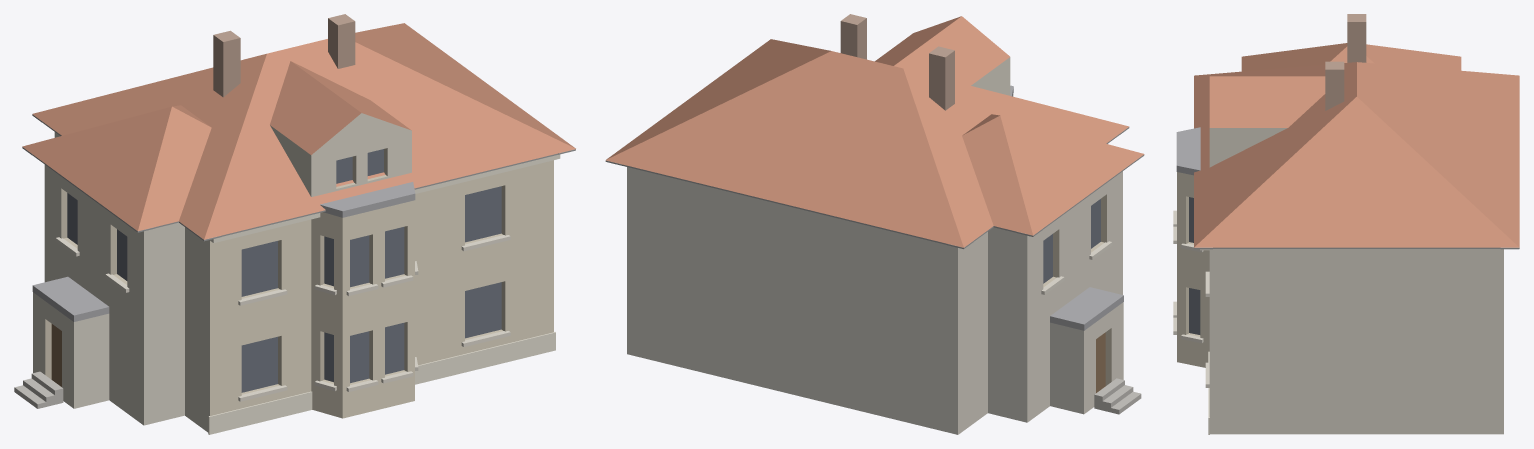
3 renders of one model, left to right at view 1: azimuth 30°, elevation 25°; view 2: azimuth 150°, elevation 25°; view 3: azimuth 270°, elevation 25°, orthographic. The views are drawn at different scales.
Visible parts, largest first — view 1: CP_1872_Masonry, CP_1872_Roof, CP_1872_Vol_left_wing_Masonry, CP_1872_Vol_bay_Masonry, CP_1872_WingRoof_vol_left_wing, CP_1872_Dormer_g1, CP_1872_Vol_porch_Masonry, CP_1872_Cornice_main_plinth_0, CP_1872_WingRoof_vol_porch, CP_1872_WingRoof_vol_bay, CP_1872_Chimney_0, CP_1872_Chimney_1 (+1 smaller); view 2: CP_1872_Masonry, CP_1872_Roof, CP_1872_Vol_left_wing_Masonry, CP_1872_WingRoof_vol_left_wing, CP_1872_Vol_porch_Masonry, CP_1872_Dormer_g1, CP_1872_WingRoof_vol_porch, CP_1872_Chimney_0, CP_1872_Chimney_1, CP_1872_Roof_EaveClosure_2; view 3: CP_1872_Masonry, CP_1872_Roof, CP_1872_Dormer_g1, CP_1872_Vol_bay_Masonry, CP_1872_WingRoof_vol_left_wing, CP_1872_WingRoof_vol_bay, CP_1872_Chimney_0, CP_1872_Chimney_1, CP_1872_Roof_EaveClosure_1.
Boxes of the visible parts, <box> form: CP_1872_Masonry: <box>54,132,553,432</box>; CP_1872_Roof: <box>32,23,575,239</box>; CP_1872_Vol_left_wing_Masonry: <box>44,165,184,425</box>; CP_1872_Vol_bay_Masonry: <box>311,200,414,418</box>; CP_1872_WingRoof_vol_left_wing: <box>22,105,211,230</box>; CP_1872_Dormer_g1: <box>270,61,411,196</box>; CP_1872_Vol_porch_Masonry: <box>33,292,109,408</box>; CP_1872_Cornice_main_plinth_0: <box>208,332,555,434</box>; CP_1872_WingRoof_vol_porch: <box>32,276,109,321</box>; CP_1872_WingRoof_vol_bay: <box>320,182,415,217</box>; CP_1872_Chimney_0: <box>213,30,240,97</box>; CP_1872_Chimney_1: <box>328,14,355,68</box>; CP_1872_Masonry: <box>627,167,987,434</box>; CP_1872_Roof: <box>606,39,1129,247</box>; CP_1872_Vol_left_wing_Masonry: <box>988,171,1122,422</box>; CP_1872_WingRoof_vol_left_wing: <box>962,114,1144,235</box>; CP_1872_Vol_porch_Masonry: <box>1050,302,1123,414</box>; CP_1872_Dormer_g1: <box>875,16,1010,95</box>; CP_1872_WingRoof_vol_porch: <box>1050,287,1123,330</box>; CP_1872_Chimney_0: <box>929,46,954,110</box>; CP_1872_Chimney_1: <box>840,14,866,59</box>; CP_1872_Roof_EaveClosure_2: <box>622,164,973,248</box>; CP_1872_Masonry: <box>1209,249,1503,434</box>; CP_1872_Roof: <box>1194,62,1519,247</box>; CP_1872_Dormer_g1: <box>1209,76,1325,167</box>; CP_1872_Vol_bay_Masonry: <box>1177,172,1209,367</box>; CP_1872_WingRoof_vol_left_wing: <box>1241,43,1461,71</box>; CP_1872_WingRoof_vol_bay: <box>1176,127,1200,175</box>; CP_1872_Chimney_0: <box>1347,14,1366,62</box>; CP_1872_Chimney_1: <box>1325,61,1344,110</box>; CP_1872_Roof_EaveClosure_1: <box>1194,247,1519,248</box>.
Size of the model in its own units: 16.12 by 10.6 by 11.06.
